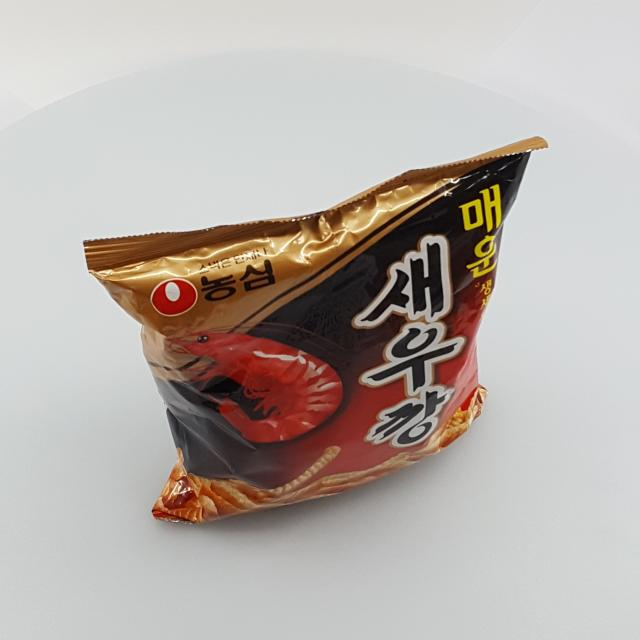-90G: (83, 137, 549, 527)
